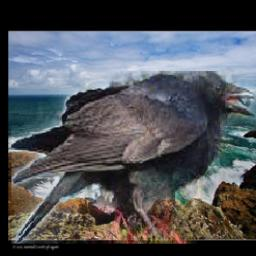Crow: (10, 71, 256, 244)
